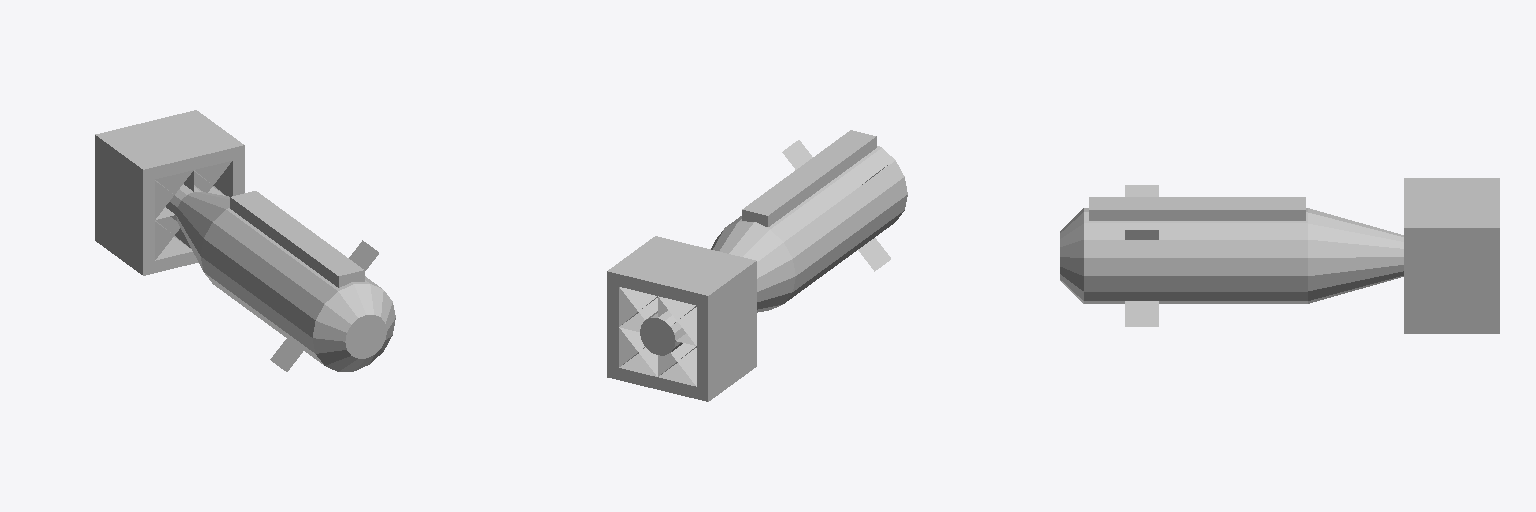
The model's file is lilboy1.obj.
3 renders of one model, left to right at view 1: azimuth 30°, elevation 25°; view 2: azimuth 150°, elevation 25°; view 3: azimuth 270°, elevation 25°, orthographic.
Bounding box in the file's own units: 0.85 × 0.85 × 3.2.